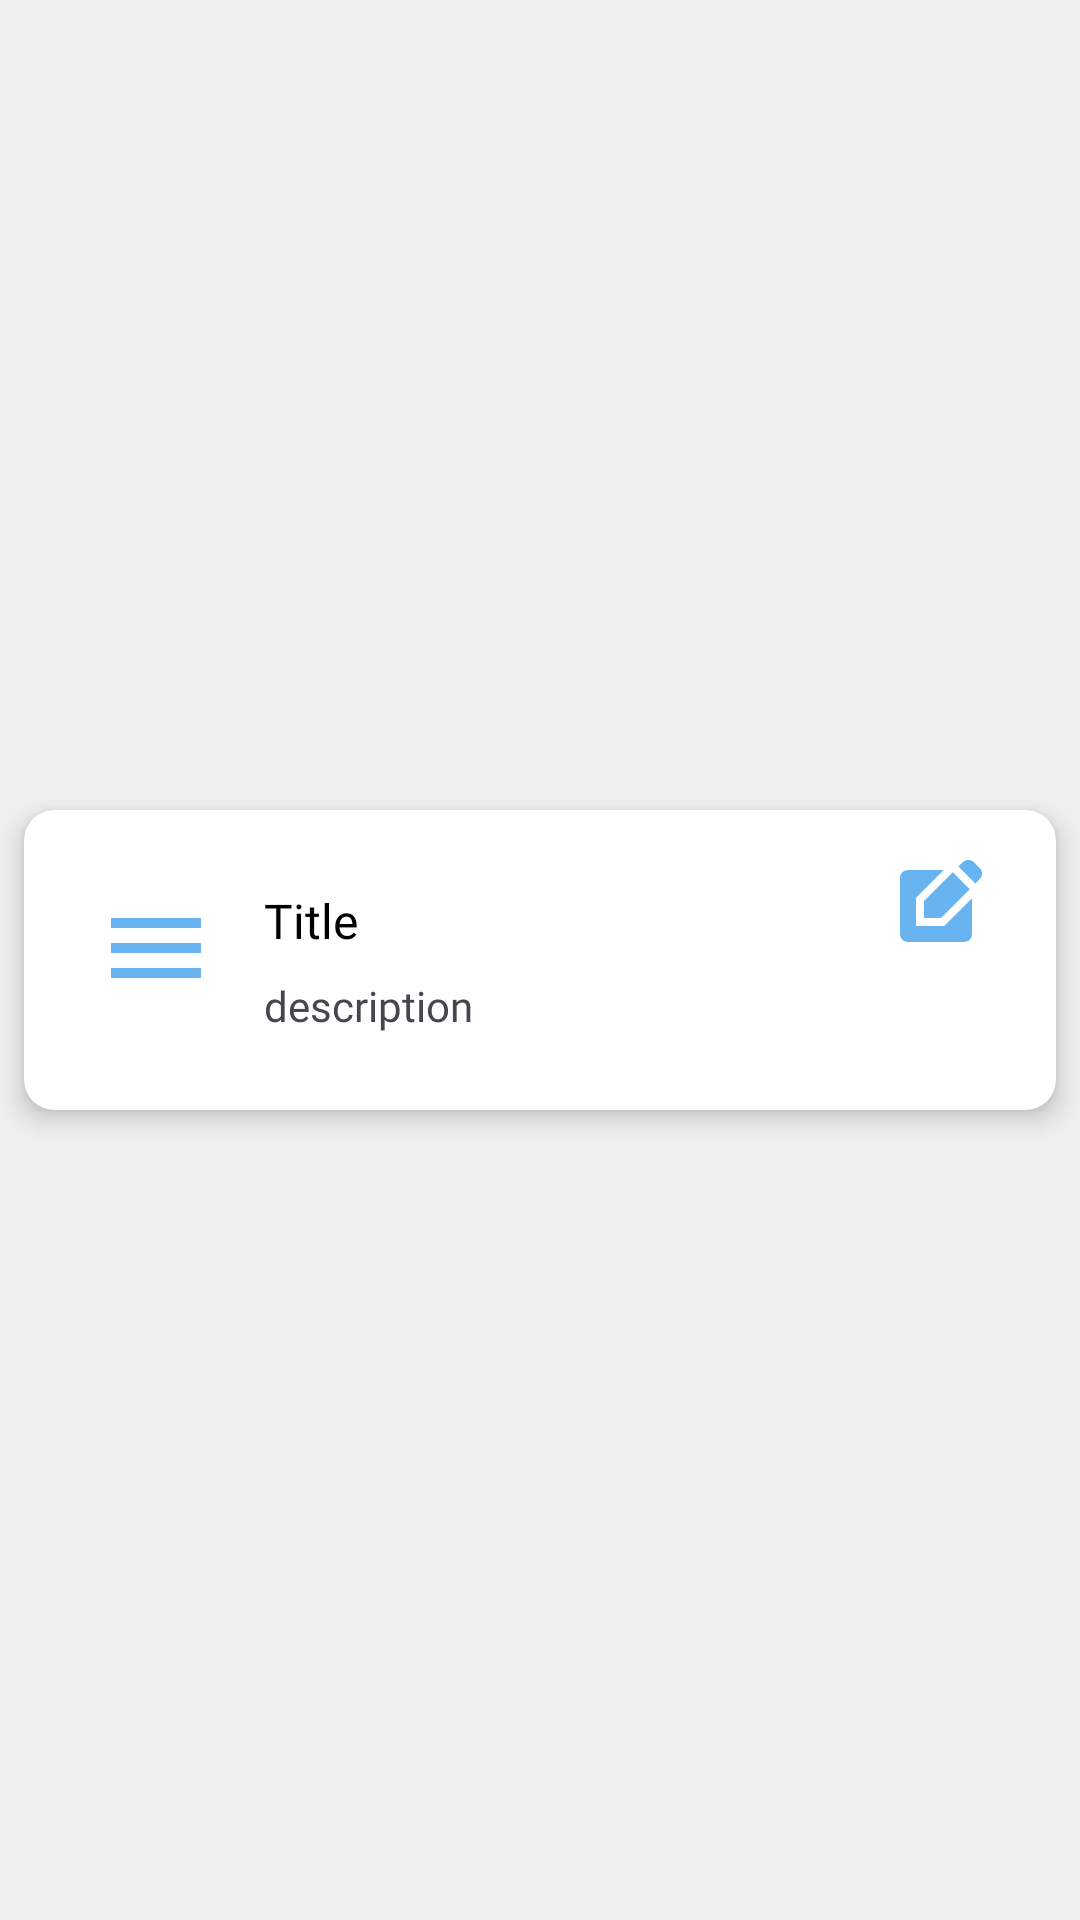

Icons on this 1080w x 1920h Android screen, each with the point to tap as (x,y):
categories: (156,948)
edit square: (941,901)
